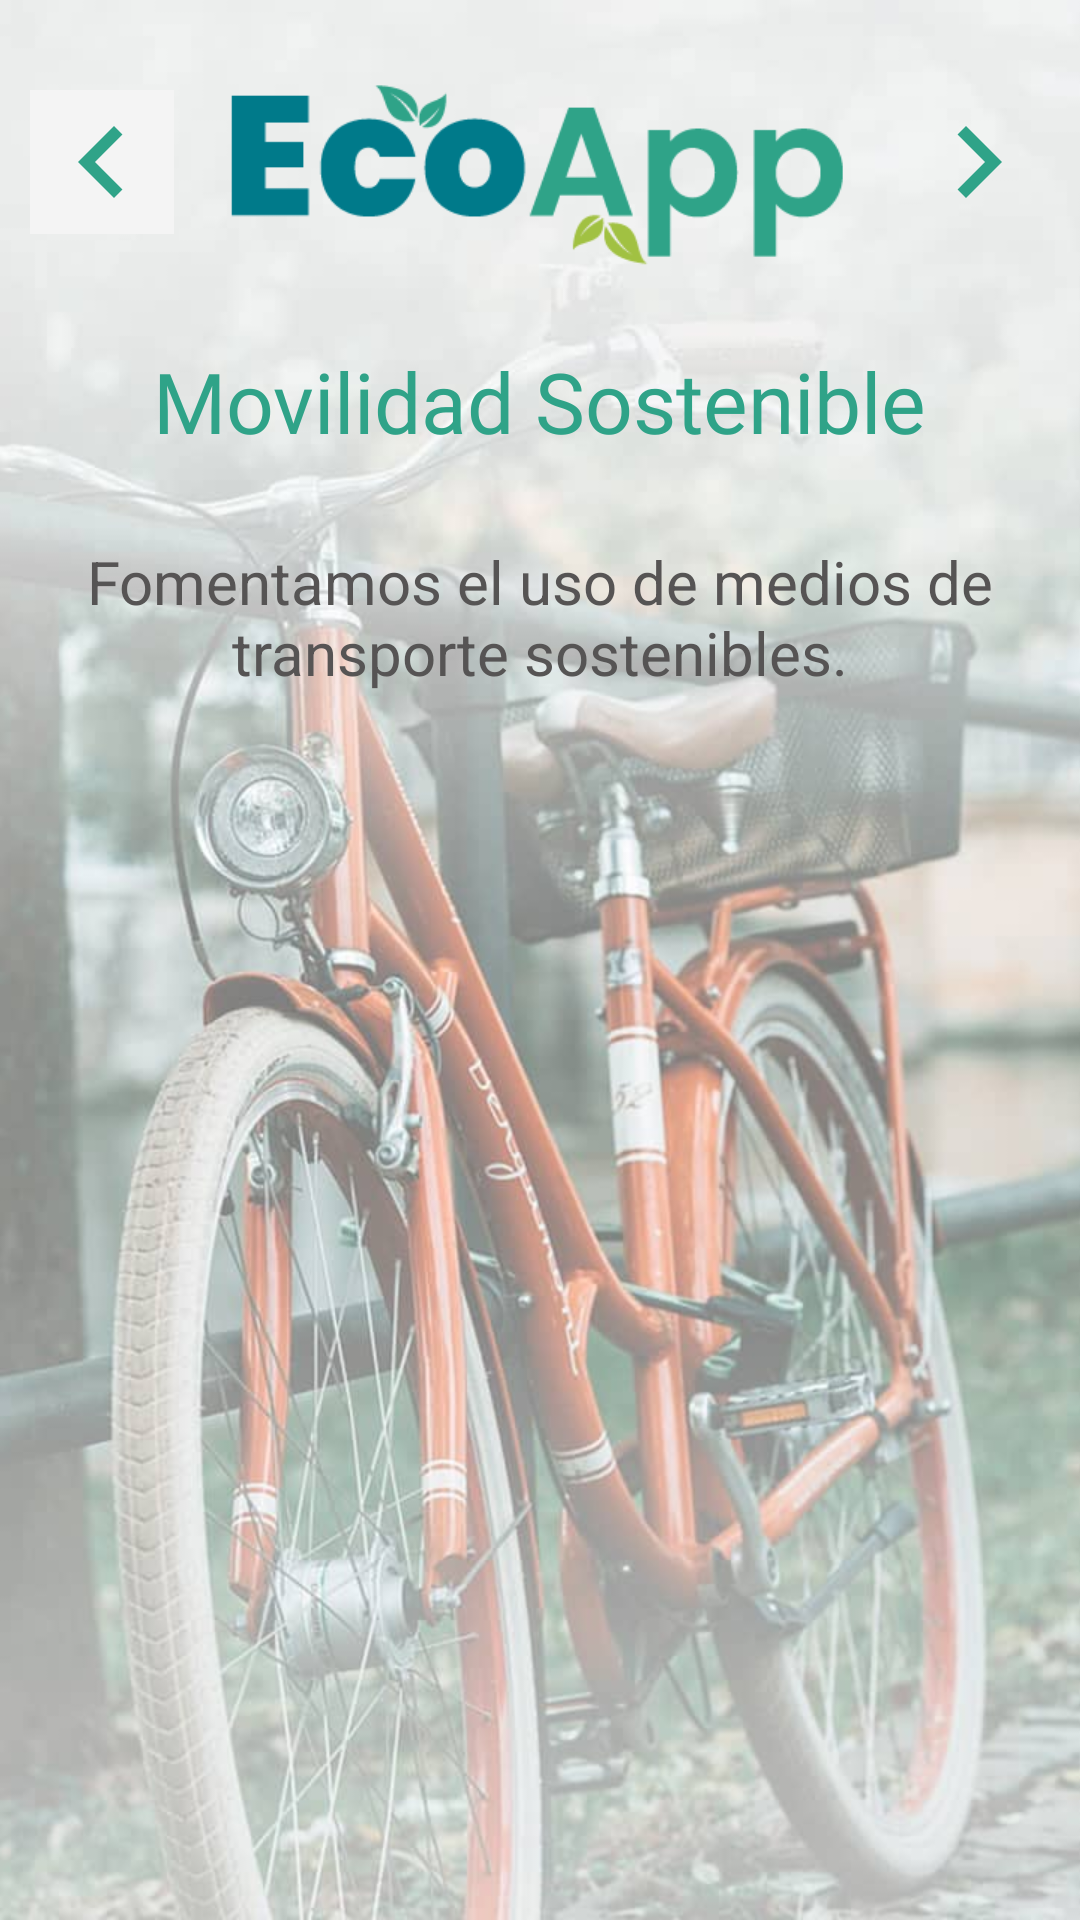

Icon bounding boxes for this 1080px x 1920px phone screenshot, format [x1,y1,x2,y2]:
navigate before: [78,126,123,198]
navigate next: [957,126,1002,198]
